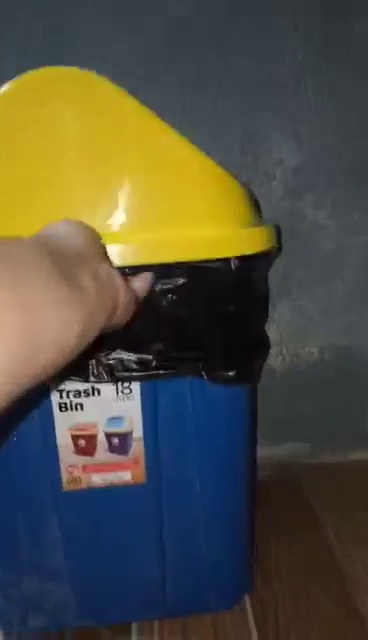garbagebin: (1, 66, 278, 640)
